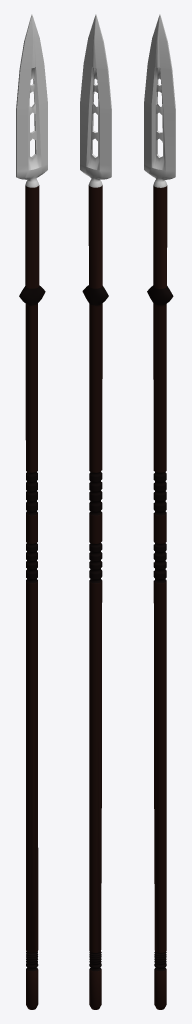
The model's file is spear.fbx.
The picture shows the model from 3 angles, left to right: view 1: azimuth 30°, elevation 25°; view 2: azimuth 150°, elevation 25°; view 3: azimuth 330°, elevation 25°; orthographic projection.
Visible parts, largest first — view 1: spear; view 2: spear; view 3: spear.
Boxes of the visible parts, x1,y1,x2,y2 form: spear: (16,14,47,1009); spear: (80,14,111,1009); spear: (144,14,175,1009).
Size of the model in its own units: 174 by 5336 by 66.97.
